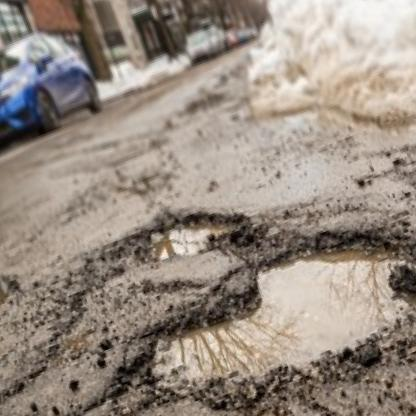pothole: (125, 190, 416, 416), (131, 195, 253, 274), (0, 269, 25, 340)
